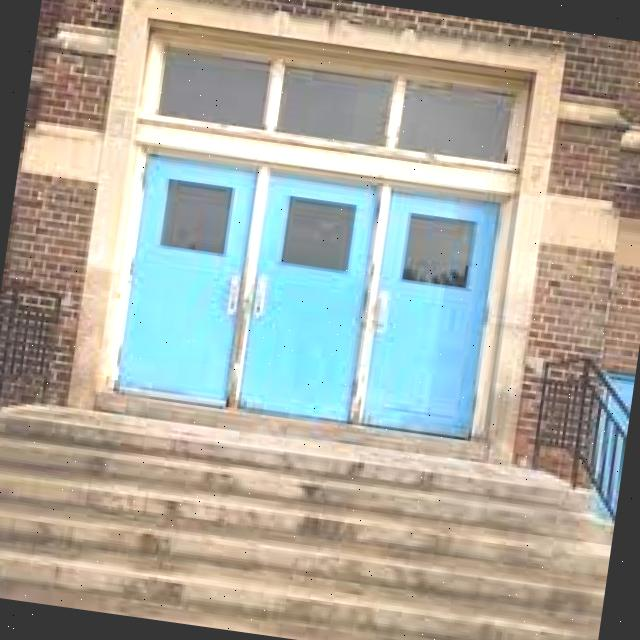stairs: (0, 387, 618, 640)
